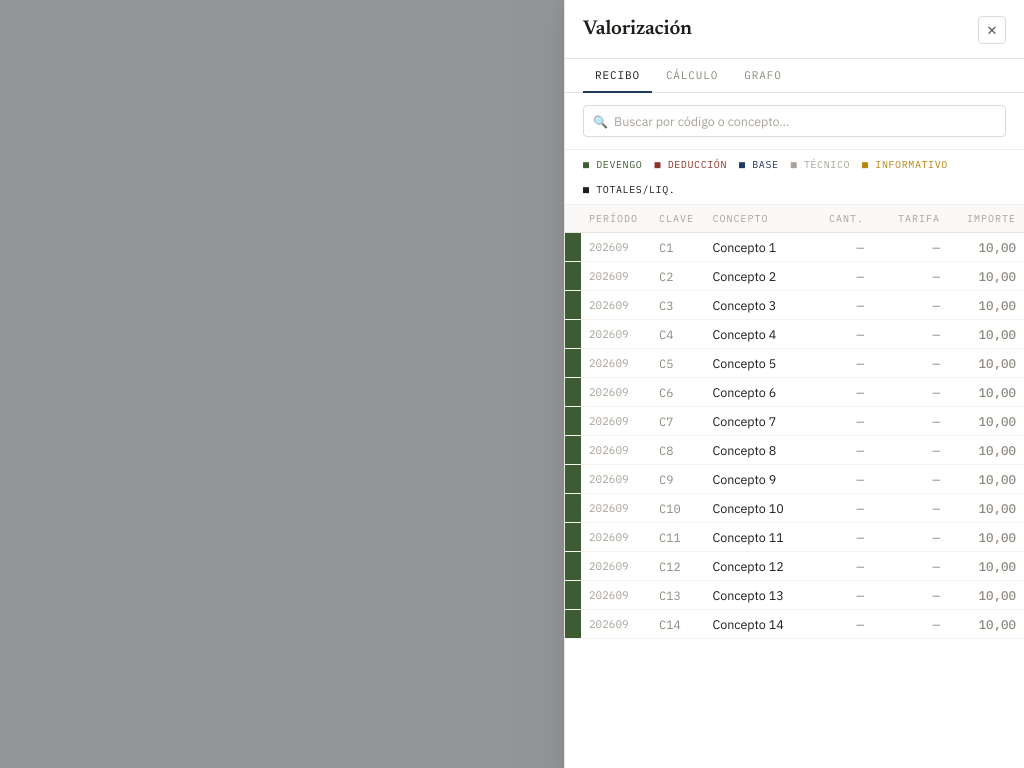
La pestaña «Cálculo» de la Valorización › un recibo sin pasos dice por qué no los tiene, y que sus conceptos siguen ahí
Click the tab with class "tab" showing "Cálculo" at (692, 76), box top-left (654, 59), bottom-right (730, 93)
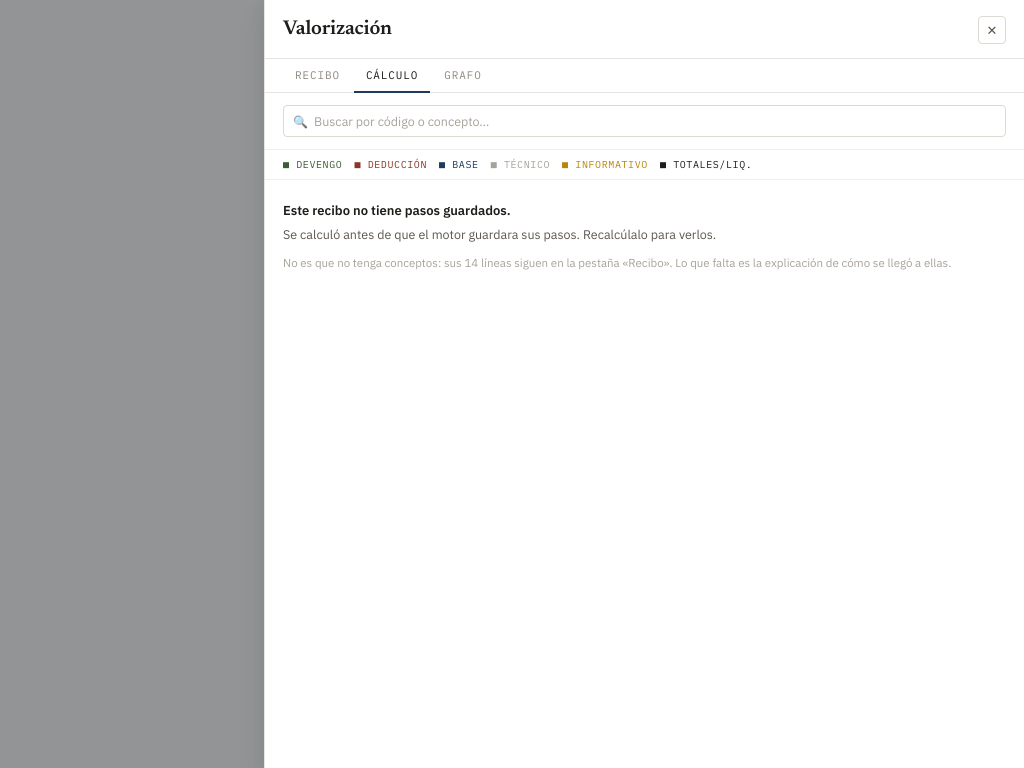
Expected: the element with class "empty-with-reason" shows "Se calculó antes de que el motor guardara sus pasos", top-left (283, 226), bottom-right (716, 242)
Expected: the element with class "empty-with-reason" shows "Recalcúlalo para verlos", top-left (283, 226), bottom-right (716, 242)
Expected: the element with class "empty-with-reason" shows "14 líneas", top-left (283, 255), bottom-right (951, 270)
